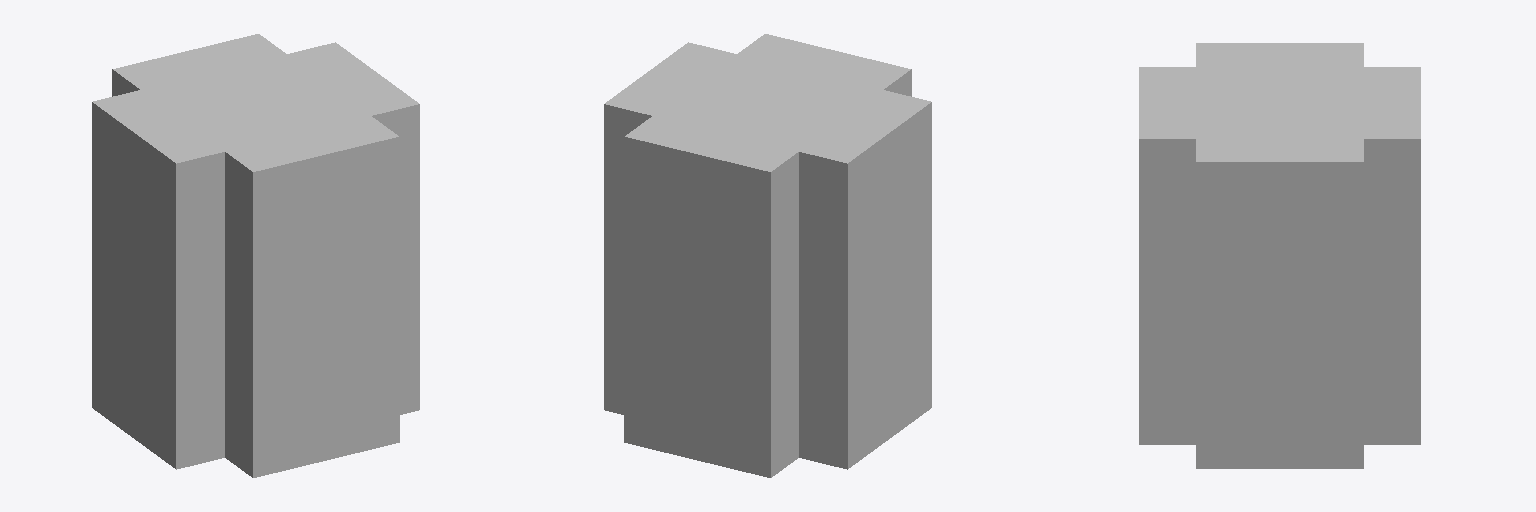
File: treeTrunk.obj
3 views of the same model, side by side, from view 1: azimuth 30°, elevation 25°; view 2: azimuth 150°, elevation 25°; view 3: azimuth 270°, elevation 25° (orthographic).
Visible parts, largest first — view 1: object 1; view 2: object 1; view 3: object 1.
Boxes of the visible parts, box(x1,y1,x2,y2) form: object 1: box(92, 34, 419, 477); object 1: box(604, 34, 931, 477); object 1: box(1139, 43, 1420, 468).
Size of the model in its own units: 0.5 by 0.6 by 0.5.